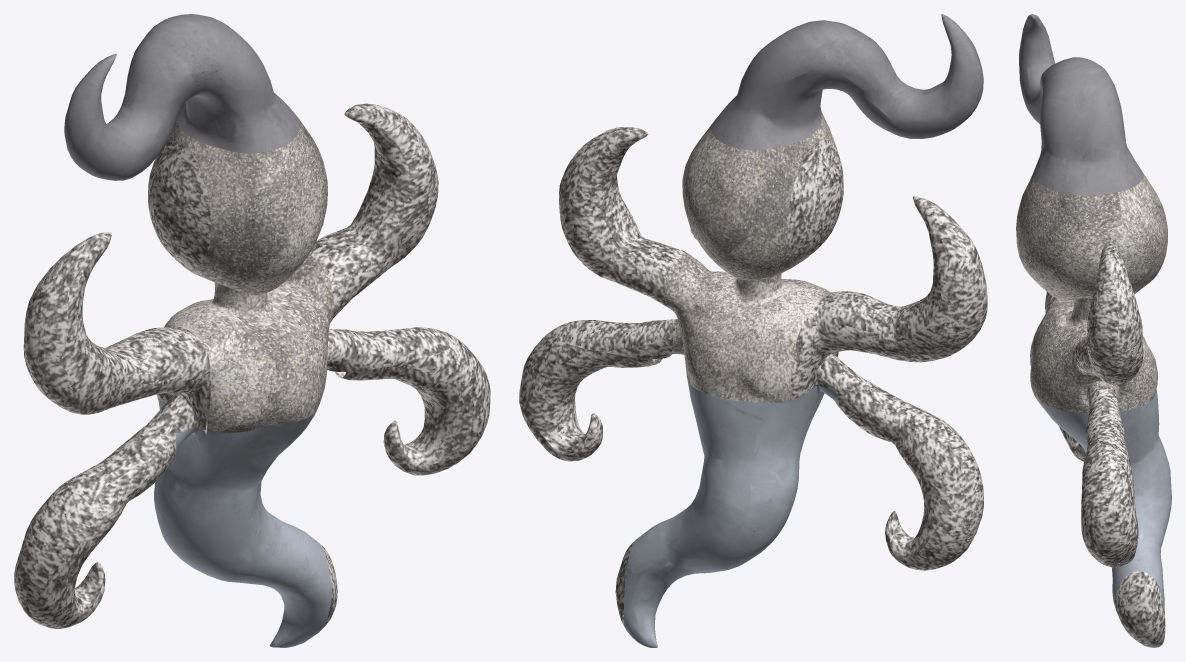
File: 19-genie-multi--stylized_octopus_3d_model.glb
3 views of the same model, side by side, from view 1: azimuth 30°, elevation 25°; view 2: azimuth 150°, elevation 25°; view 3: azimuth 270°, elevation 25° (orthographic). The views are drawn at different scales.
Visible parts, largest first — view 1: arms_mesh, body_mesh, head_mesh, feet_mesh; view 2: arms_mesh, body_mesh, feet_mesh, head_mesh; view 3: body_mesh, arms_mesh, head_mesh, feet_mesh.
Boxes of the visible parts, x1,y1,x2,y2 form: arms_mesh: [14, 103, 490, 629]; body_mesh: [164, 111, 333, 432]; head_mesh: [64, 14, 299, 180]; feet_mesh: [154, 399, 331, 647]; arms_mesh: [519, 127, 987, 627]; body_mesh: [664, 112, 837, 402]; feet_mesh: [623, 379, 841, 647]; head_mesh: [711, 14, 983, 149]; body_mesh: [1016, 171, 1167, 413]; arms_mesh: [1045, 244, 1165, 646]; head_mesh: [1019, 14, 1143, 195]; feet_mesh: [1037, 389, 1171, 647].
Bounding box in the file's own units: 2.16 × 3 × 0.7865.
4 materials, 4 textured.
